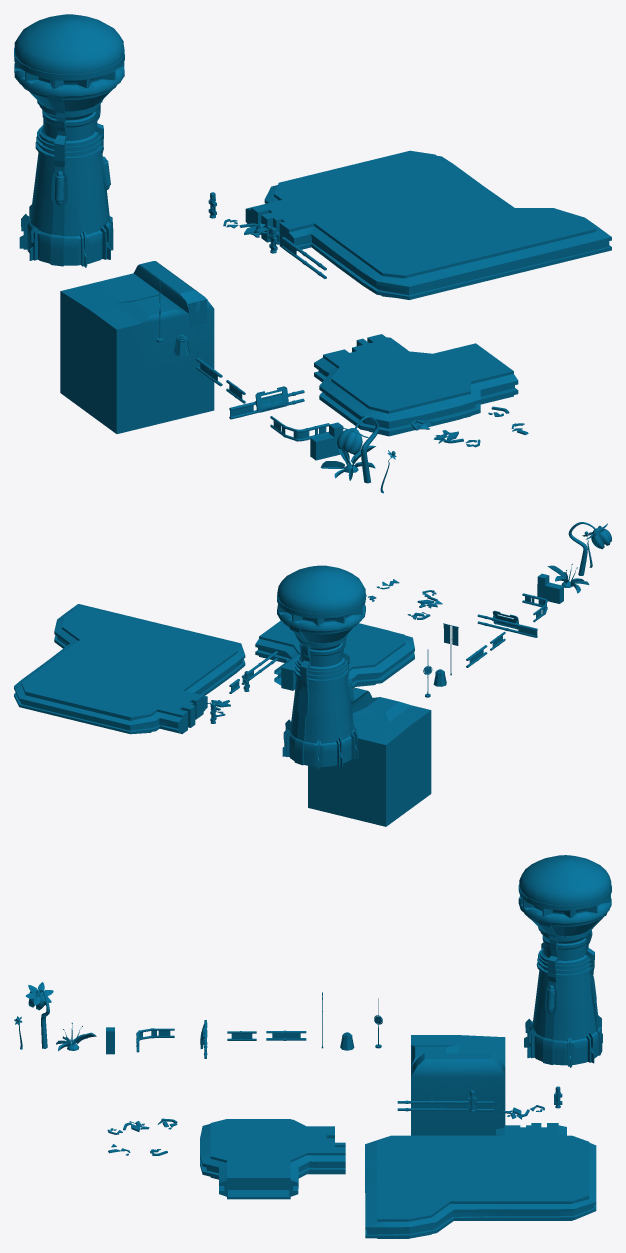
The model's file is foreground_low.fbx.
3 views of the same model, one above another, from view 1: azimuth 30°, elevation 25°; view 2: azimuth 150°, elevation 25°; view 3: azimuth 270°, elevation 25° (orthographic). The views are drawn at different scales.
Parts seen in each view (by area): view 1: foreground_low; view 2: foreground_low; view 3: foreground_low.
Part boxes in pixels (left/top/right/bottom): foreground_low: left=14, top=14, right=611, bottom=493; foreground_low: left=14, top=522, right=611, bottom=826; foreground_low: left=14, top=855, right=611, bottom=1238.
Size of the model in its own units: 27.19 by 18.18 by 35.27.
